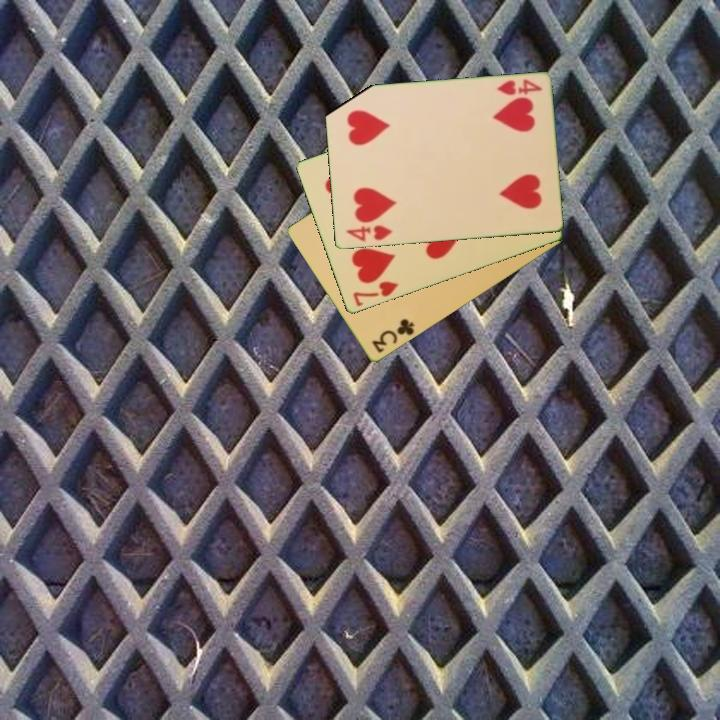3c: (368, 315, 417, 356)
4h: (342, 222, 394, 245), (494, 76, 545, 98)
7h: (349, 278, 401, 310)
